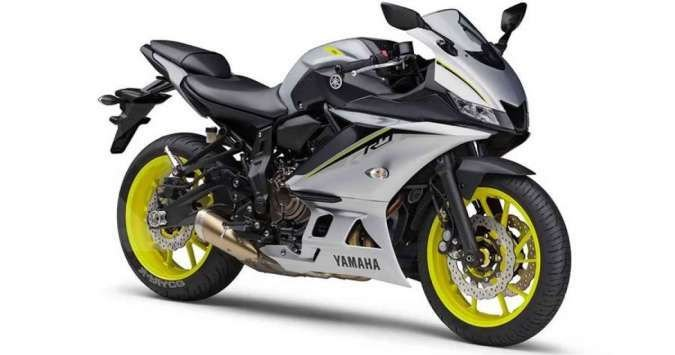motor: (85, 13, 572, 349)
